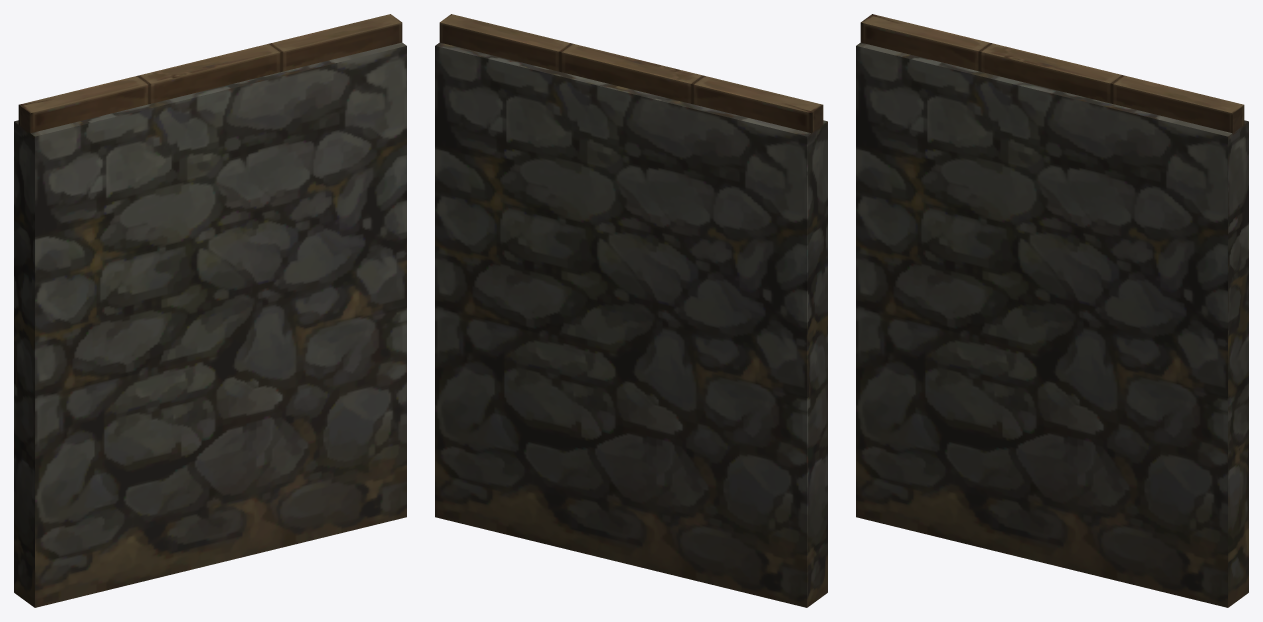
The model's file is mf_wall031.FBX.
3 views of the same model, side by side, from view 1: azimuth 30°, elevation 25°; view 2: azimuth 150°, elevation 25°; view 3: azimuth 330°, elevation 25° (orthographic).
Visible parts, largest first — view 1: mf_wall031; view 2: mf_wall031; view 3: mf_wall031.
Part boxes in pixels (bbox=[...]): mf_wall031: bbox=[14, 14, 406, 607]; mf_wall031: bbox=[435, 14, 827, 607]; mf_wall031: bbox=[856, 14, 1248, 607].
Size of the model in its own units: 1.99 by 2.52 by 0.1937.
